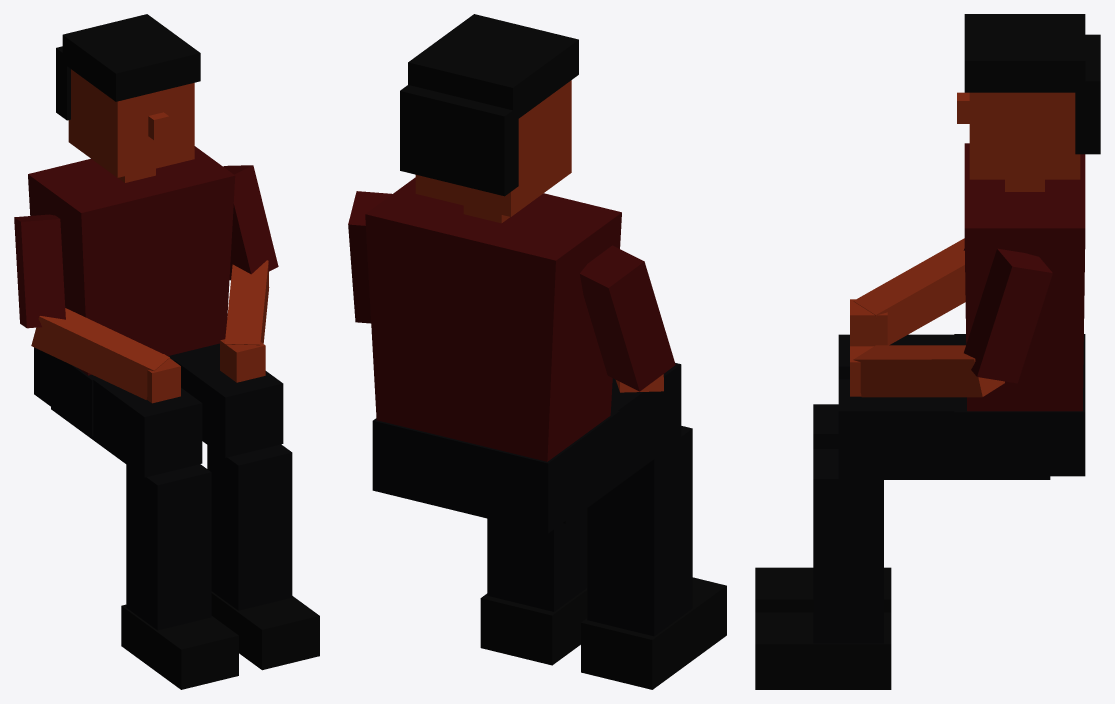
The model's file is espectador_A.obj.
The picture shows the model from 3 angles, left to right: view 1: azimuth 30°, elevation 25°; view 2: azimuth 150°, elevation 25°; view 3: azimuth 270°, elevation 25°; orthographic projection. The views are drawn at different scales.
Visible parts, largest first — view 1: Espectador_A_Cuerpo; view 2: Espectador_A_Cuerpo; view 3: Espectador_A_Cuerpo.
Part boxes in pixels (x1,y1,x2,y2): Espectador_A_Cuerpo: [14, 14, 319, 689]; Espectador_A_Cuerpo: [348, 14, 726, 689]; Espectador_A_Cuerpo: [755, 14, 1100, 689].
Size of the model in its own units: 0.6536 by 1.35 by 0.685.
